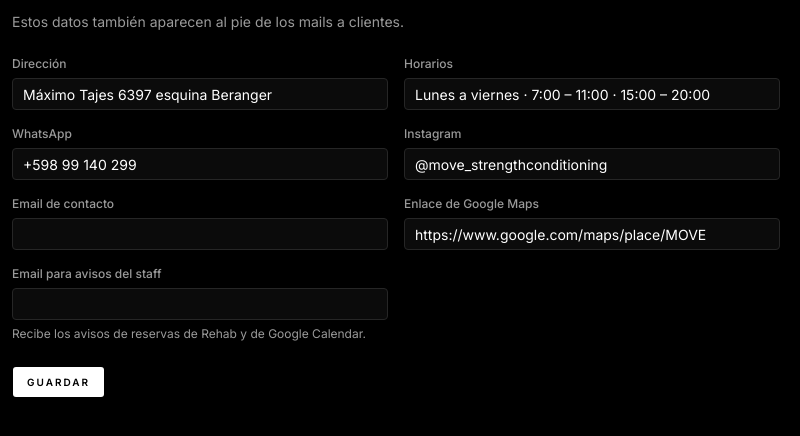
it: ContactTab › blocks the Maps URL https:foo.com, which the API rejects
The width and height of the screenshot is (800, 436).
Replace the text in the field labelled "Enlace de Google Maps" with "https:foo.com": (592, 234) [404, 218, 780, 250]
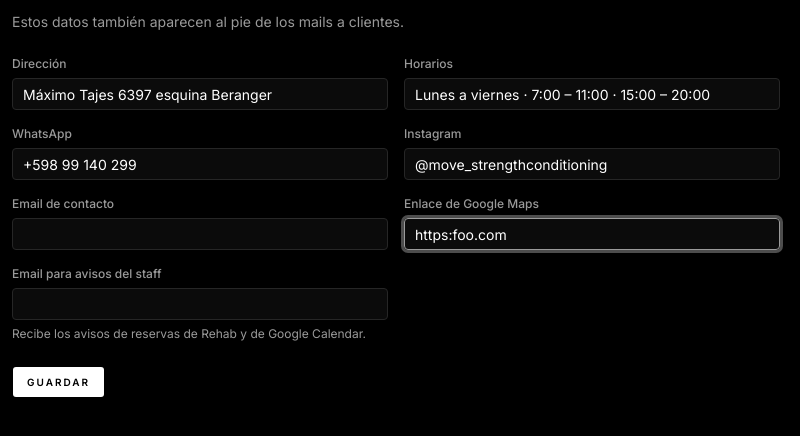
Click the button "Guardar": (59, 382) [12, 366, 105, 398]
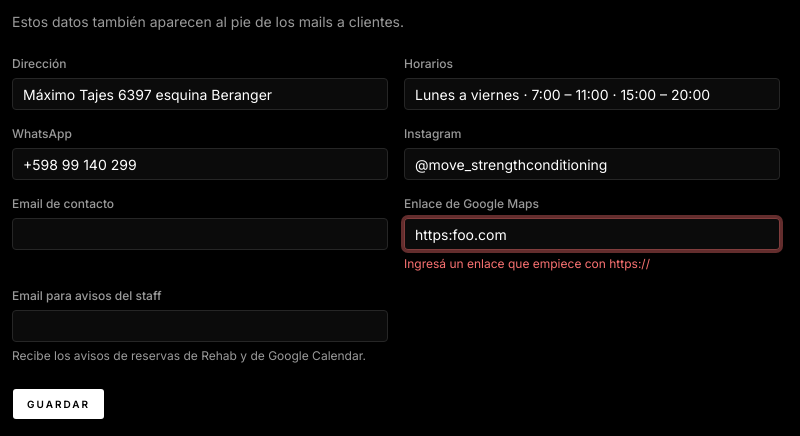
Expected: the text "Ingresá un enlace que empiece con https://" is shown, [404, 256, 650, 271]
